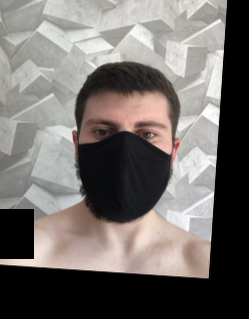with_mask: (76, 109, 171, 224)
